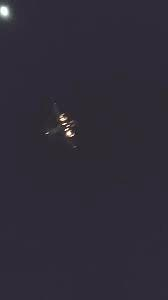Plane: (38, 99, 97, 159)
